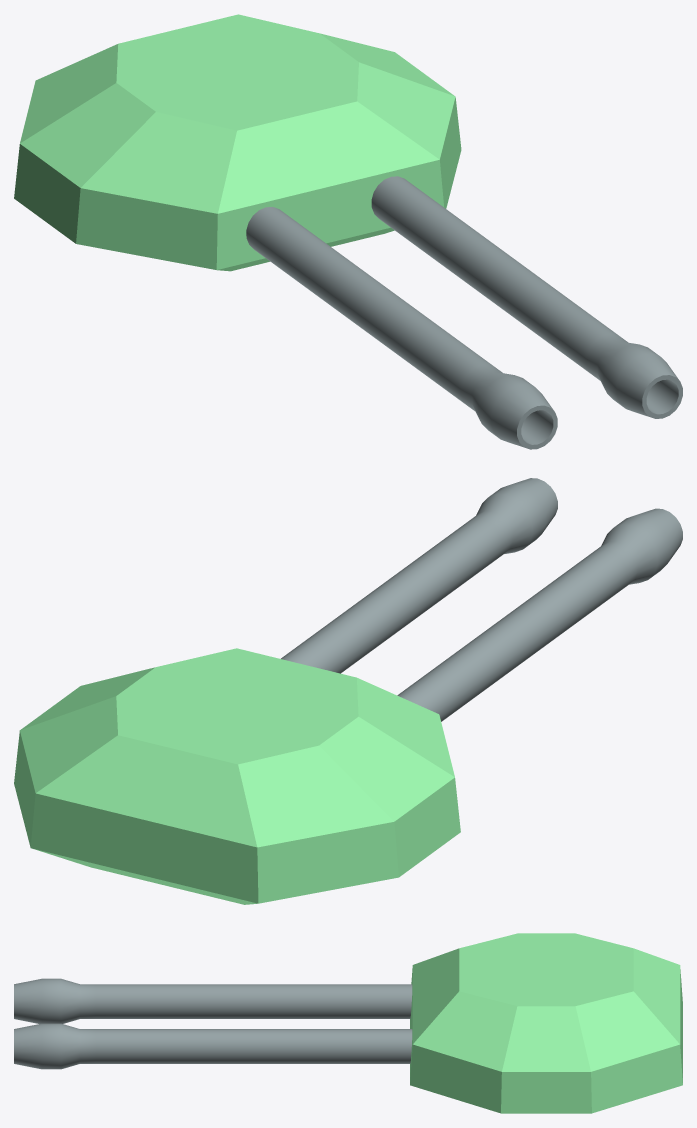
File: terminator_turret.obj
3 views of the same model, one above another, from view 1: azimuth 30°, elevation 25°; view 2: azimuth 150°, elevation 25°; view 3: azimuth 270°, elevation 25° (orthographic). The views are drawn at different scales.
Visible parts, largest first — view 1: TerminatorTurret; view 2: TerminatorTurret; view 3: TerminatorTurret.
Part boxes in pixels (bbox=[...]): TerminatorTurret: bbox=[14, 14, 682, 449]; TerminatorTurret: bbox=[14, 478, 682, 904]; TerminatorTurret: bbox=[14, 933, 682, 1113].
Size of the model in its own units: 6.29 by 2.01 by 12.89.
